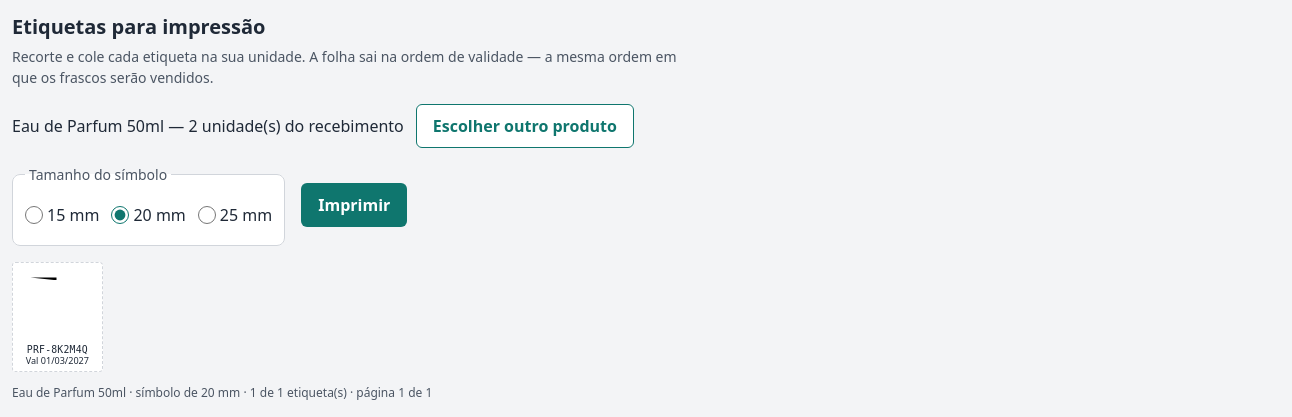
Test case: TelaEtiquetas (RF04) › "Escolher outro produto" volta ao seletor vazio
expect the text "PRF-8K2M4Q" is shown: met, box x1=27 y1=344 x2=88 y2=355
Click the button "Escolher outro produto".
click(525, 126)  # box x1=416 y1=104 x2=634 y2=148
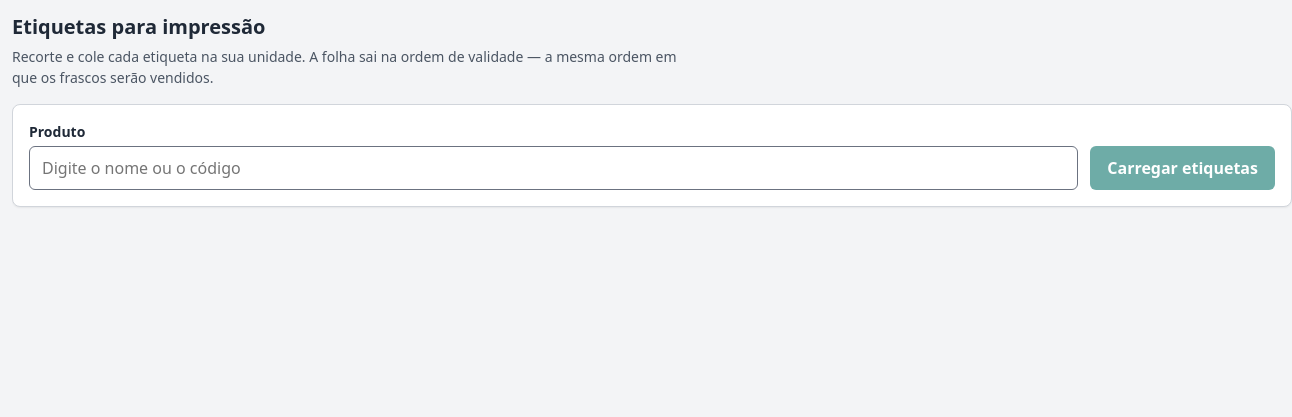
expect the dropdown labelled "Produto" is empty: met, box x1=29 y1=146 x2=1078 y2=190
expect the button "Carregar etiquetas" is disabled: met, box x1=1090 y1=146 x2=1275 y2=190
